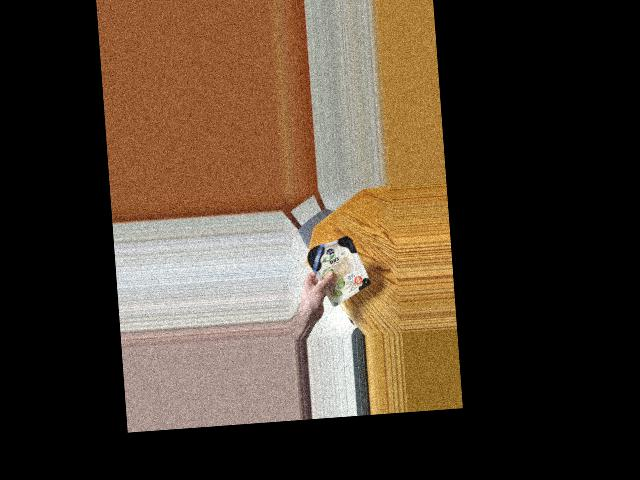cheese: (308, 231, 368, 296)
